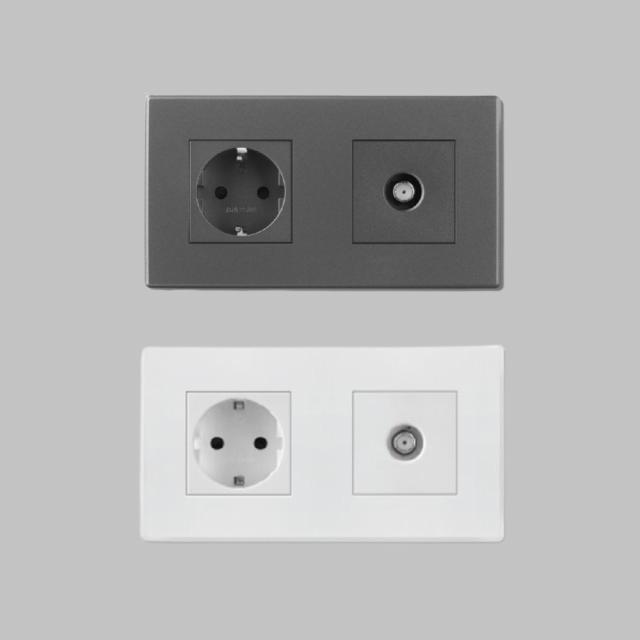typeb: (95, 67, 526, 346), (109, 334, 532, 570)
